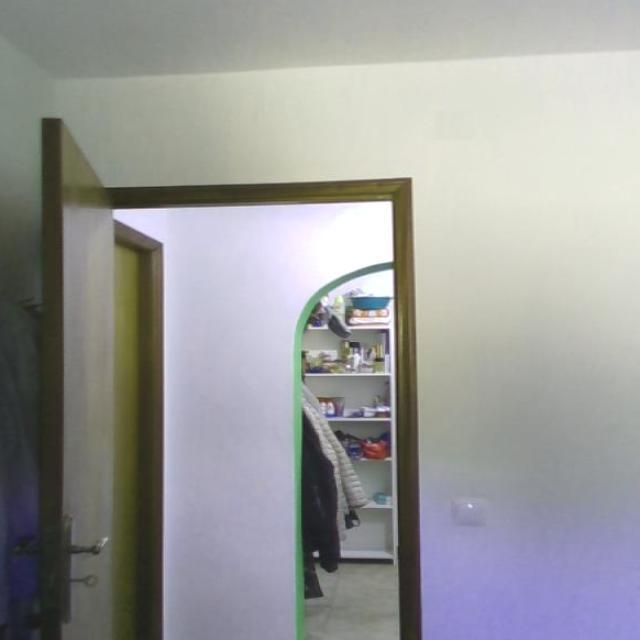door: (22, 110, 126, 640)
